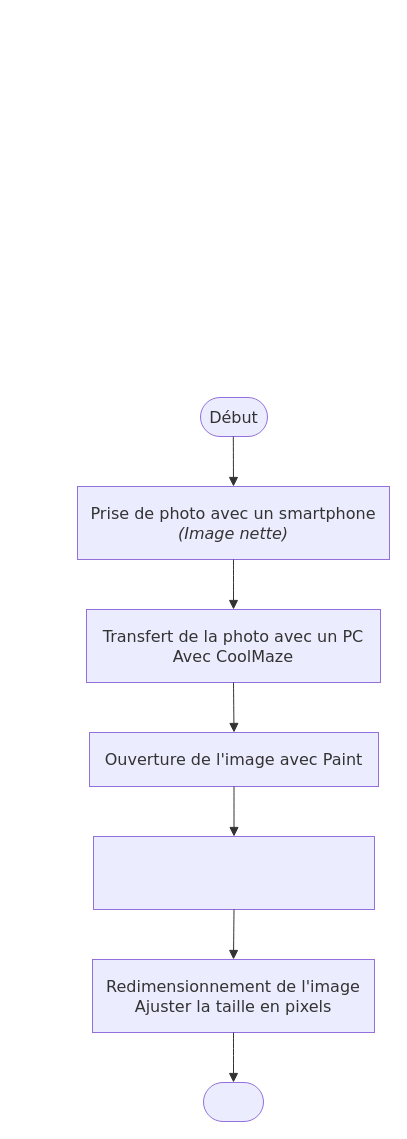
This 407x1139 diagram has some shape labels left out. Here are the shapes that lost their labels. From the top down, the centre of each, then its label:
the point at 233,873: Rognage de l'image Découpe de l'élément souhaité
the point at 233,1102: Fin
